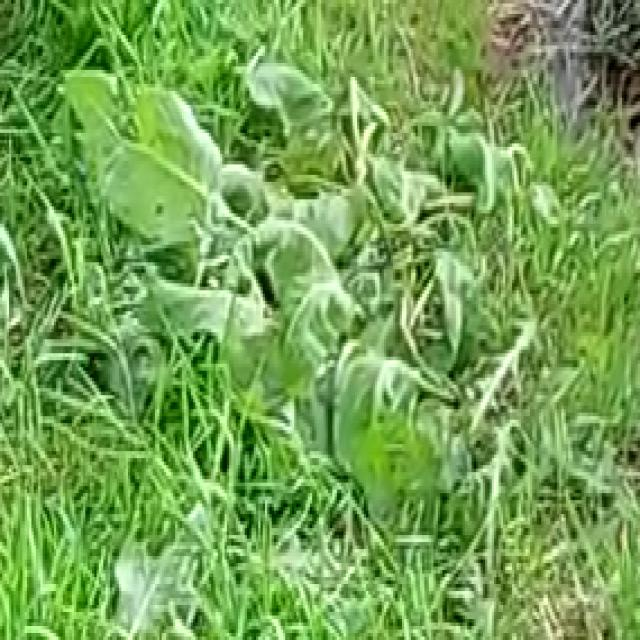organic waste: (72, 0, 397, 416), (276, 129, 514, 570), (70, 493, 244, 626)
